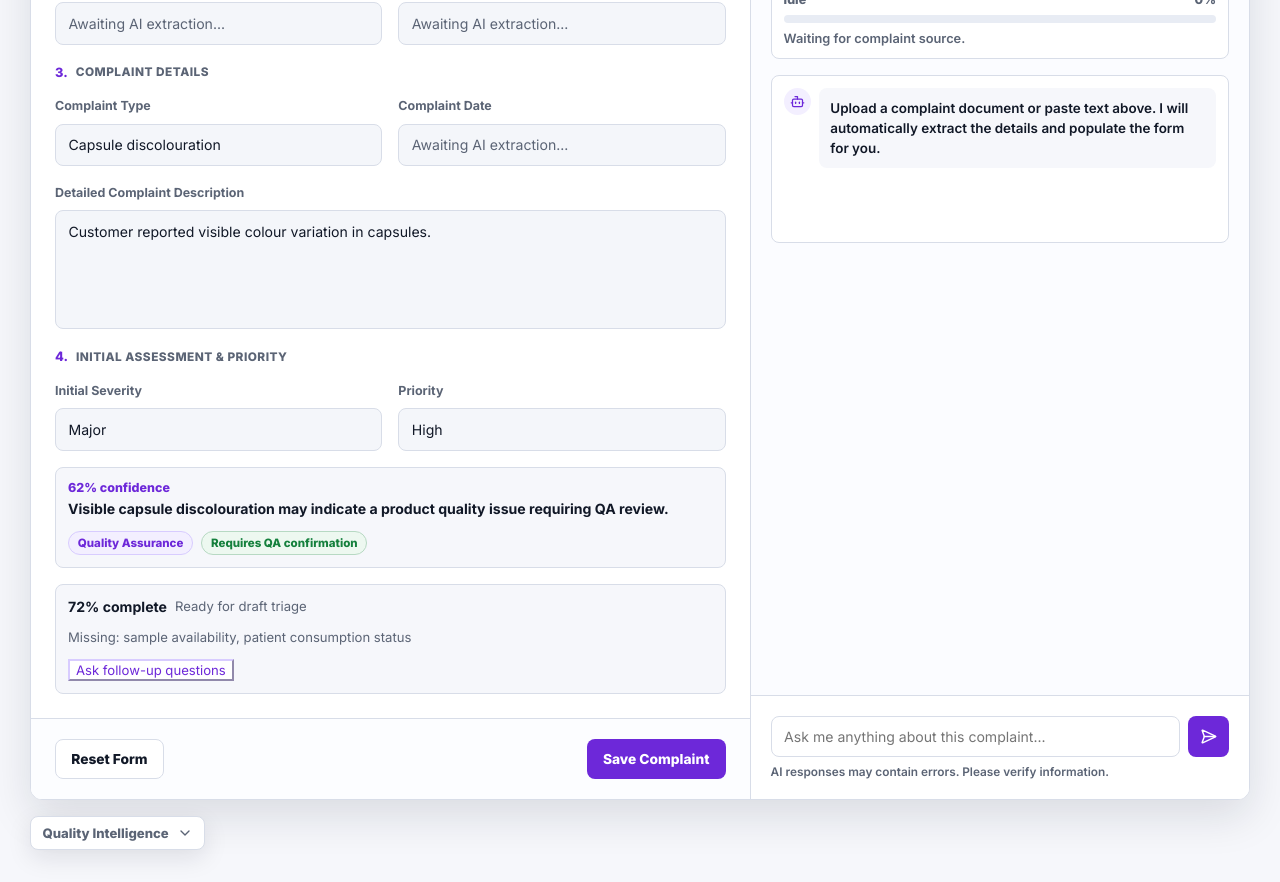
App › investigation support shows details in dock and compact duplicate alert under form
The width and height of the screenshot is (1280, 882).
(page scrolled)
Click the button "Quality Intelligence" at coordinates (118, 833), box x1=30 y1=816 x2=205 y2=850
(page scrolled)
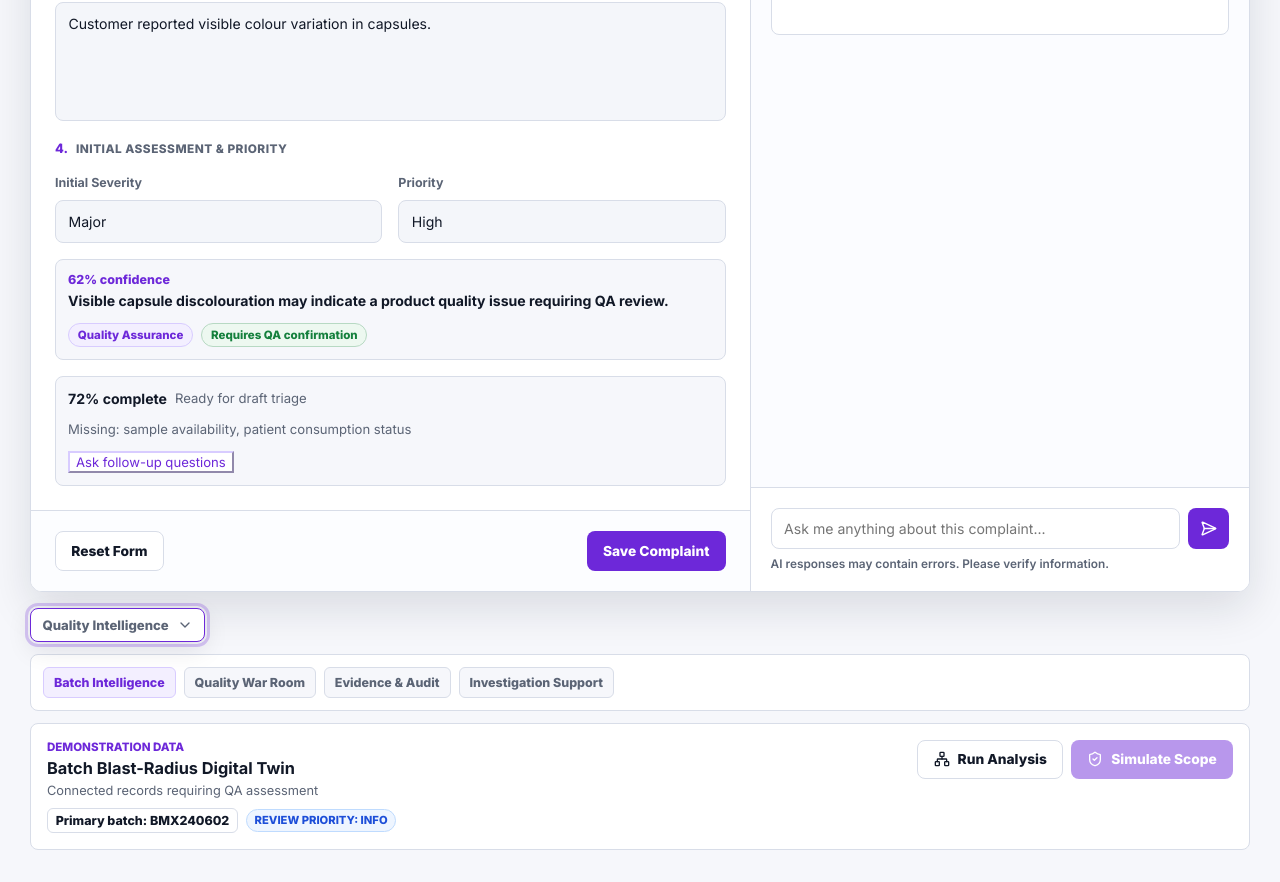
Click the tab "Investigation Support" at coordinates (536, 682), box x1=458 y1=667 x2=614 y2=698
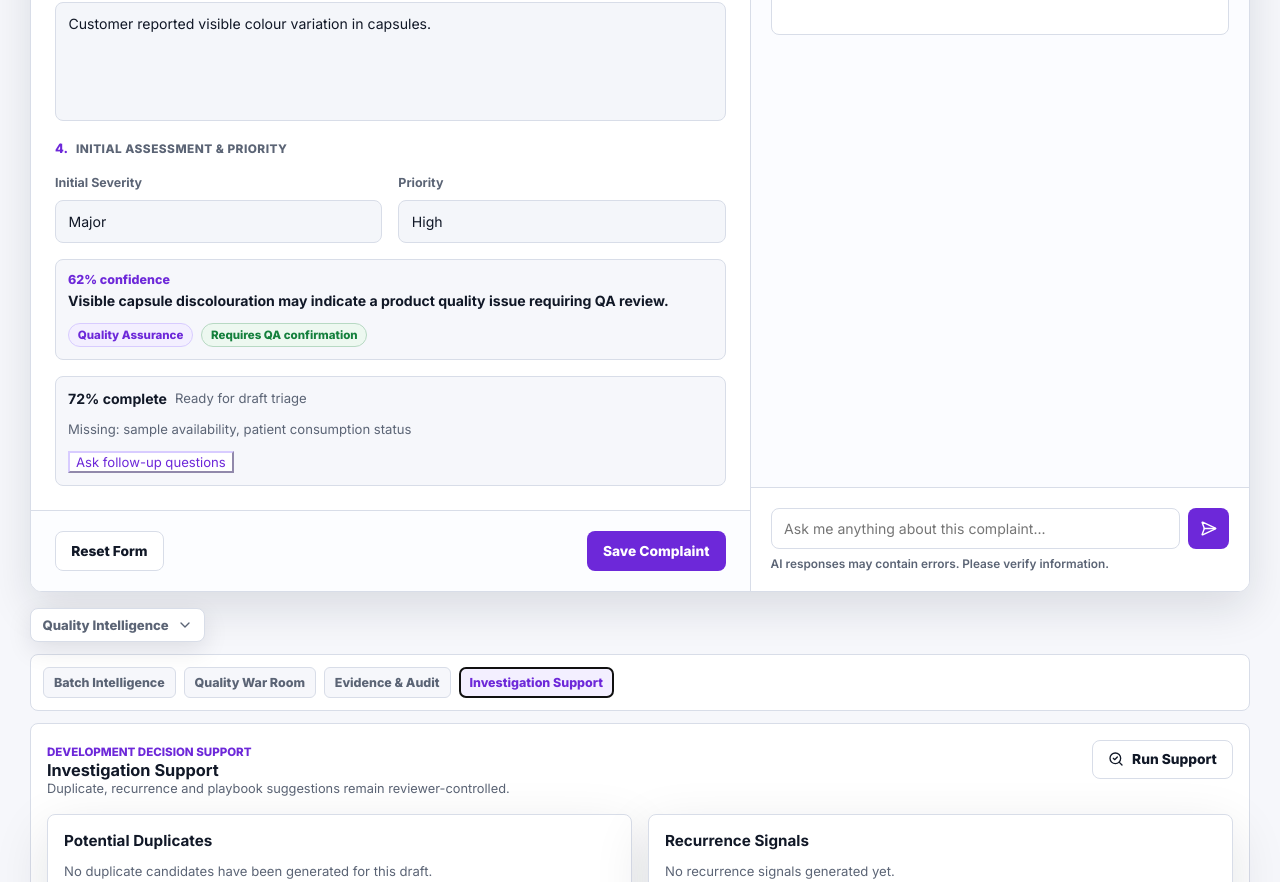
Click the button "Run Support" at coordinates (1162, 759), box x1=1092 y1=740 x2=1233 y2=779
(page scrolled)
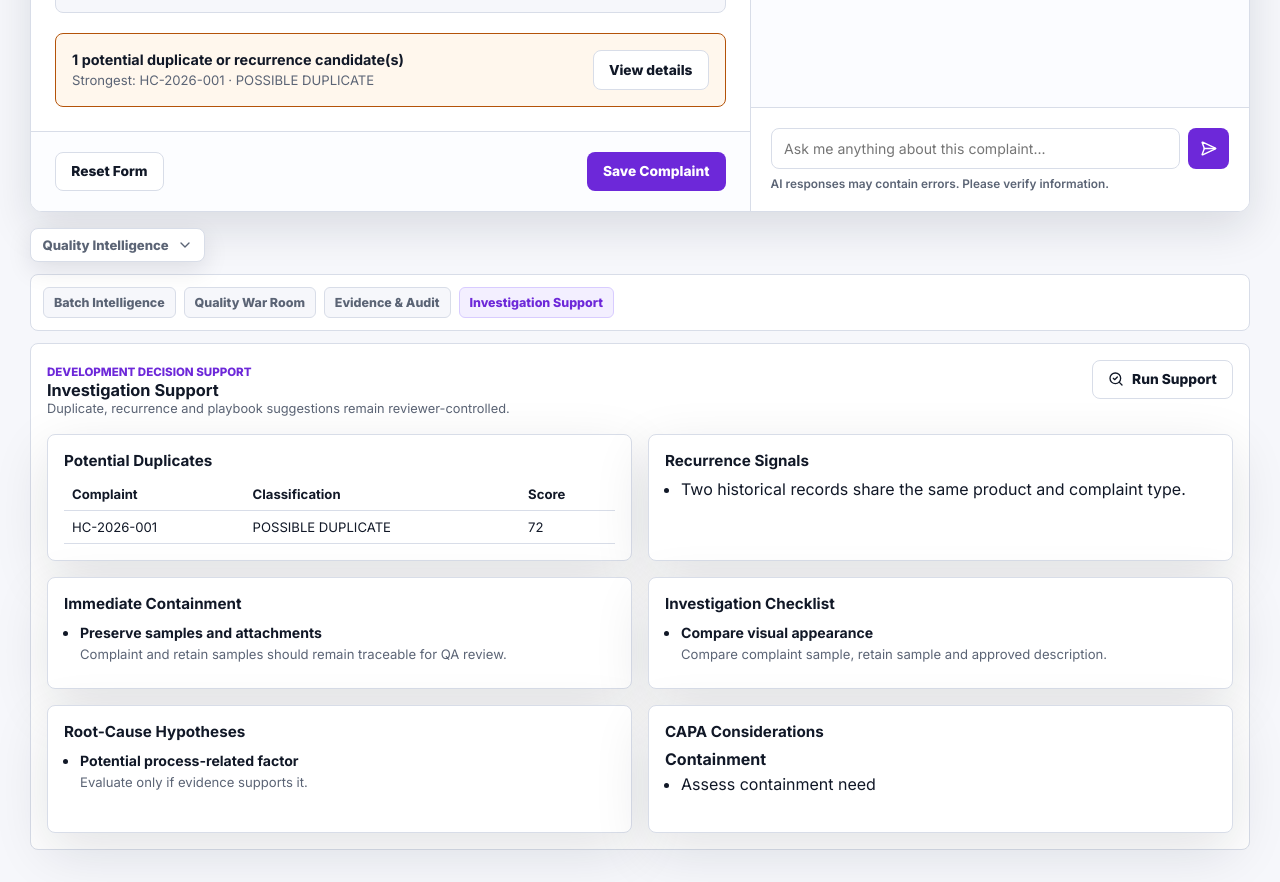
Expected: the element with test id "investigation-support-panel" shows "Root-Cause Hypotheses", x1=64 y1=722 x2=245 y2=741
Expected: the element with test id "duplicate-summary-alert" shows "HC-2026-001", x1=139 y1=72 x2=225 y2=88
Expected: the element with test id "duplicate-details-table" shows "POSSIBLE DUPLICATE", x1=253 y1=519 x2=391 y2=535
